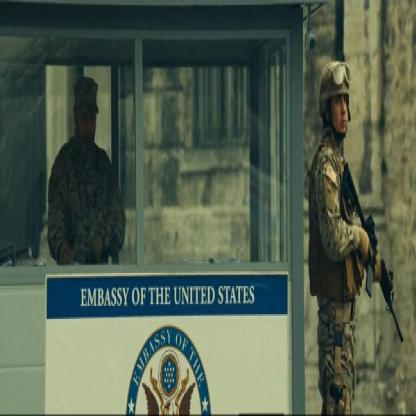Gun: (339, 153, 404, 349)
